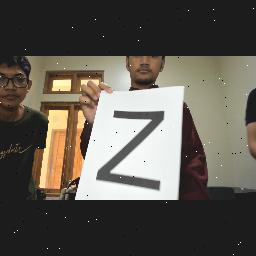z: (94, 106, 166, 194)
